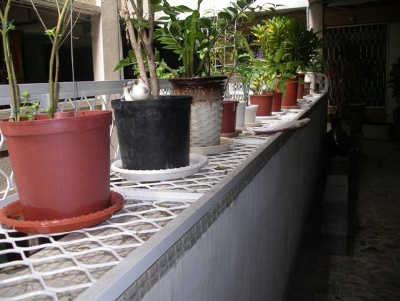plate: (1, 186, 126, 233), (111, 151, 210, 179), (182, 136, 235, 155), (247, 108, 281, 124)
